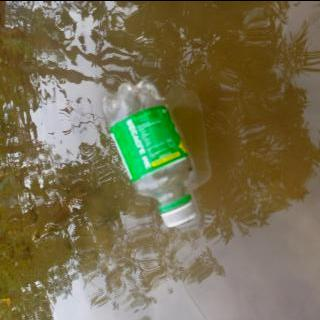bottle: (98, 74, 200, 229)
